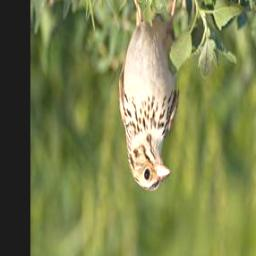Sparrow: (116, 0, 181, 196)
